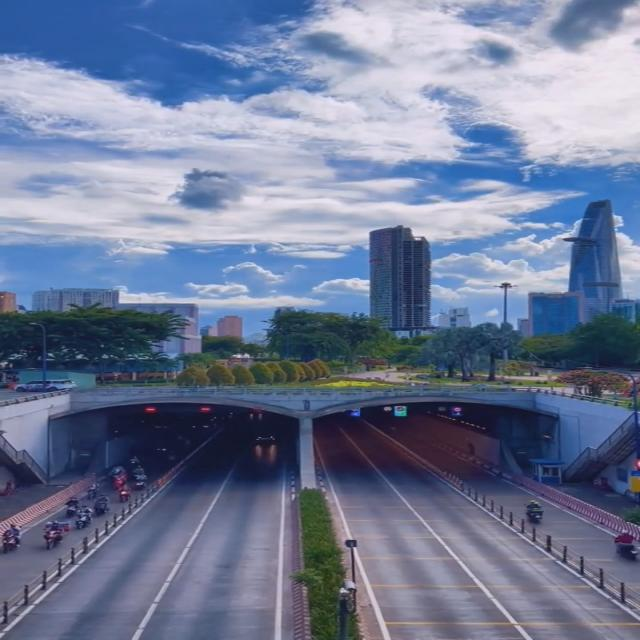motorbike: (612, 529, 640, 561), (42, 520, 66, 550), (1, 524, 23, 553), (525, 499, 545, 524), (93, 493, 110, 518), (62, 496, 79, 519), (76, 506, 92, 530), (117, 485, 134, 504), (134, 473, 148, 489), (90, 481, 102, 495)
